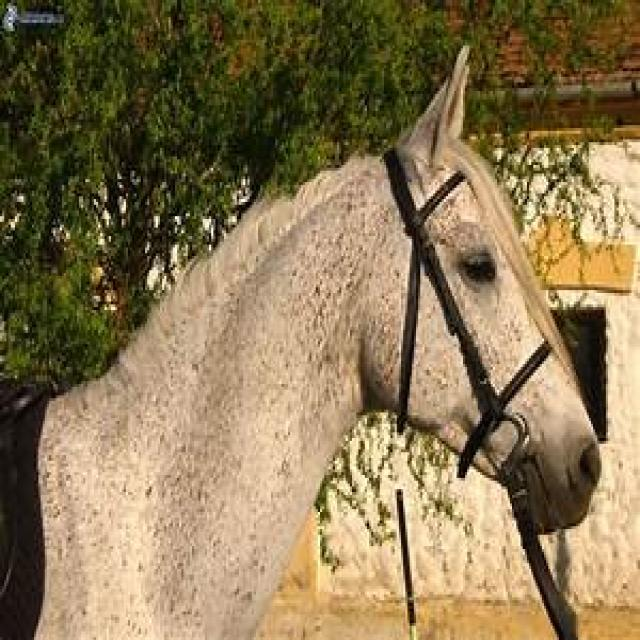horse: (28, 51, 602, 640)
